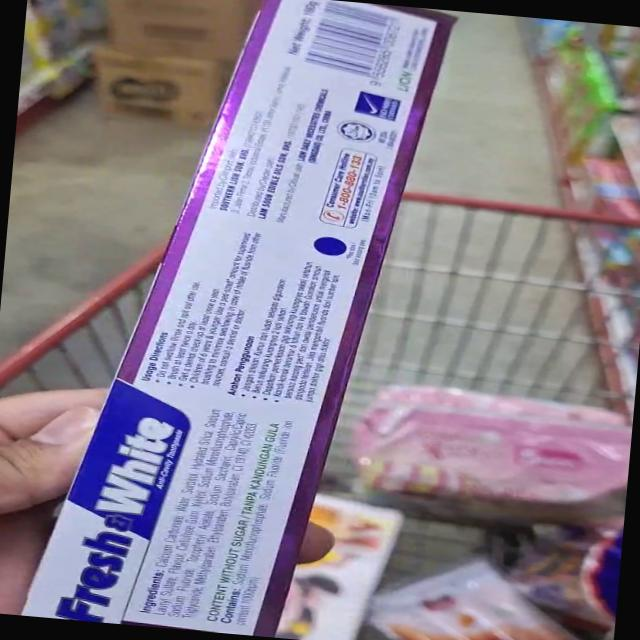Ubat Gigi: (114, 145, 408, 512), (10, 343, 329, 640), (209, 0, 459, 322)
